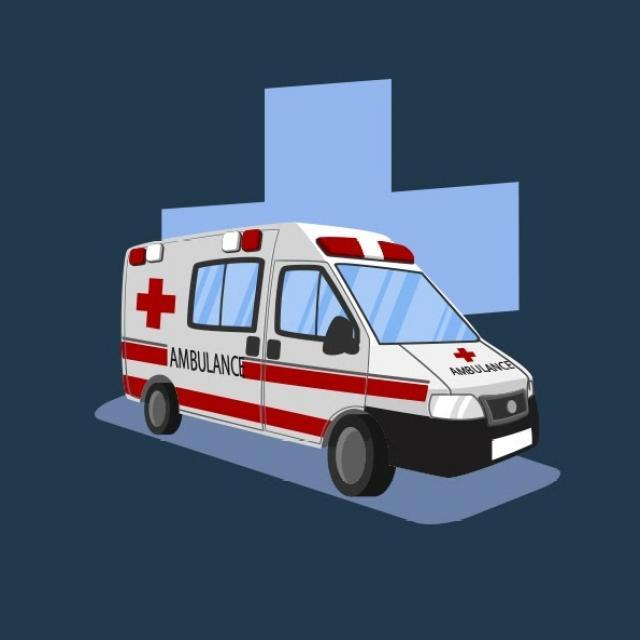emergency-vehicle: (105, 218, 546, 496)
